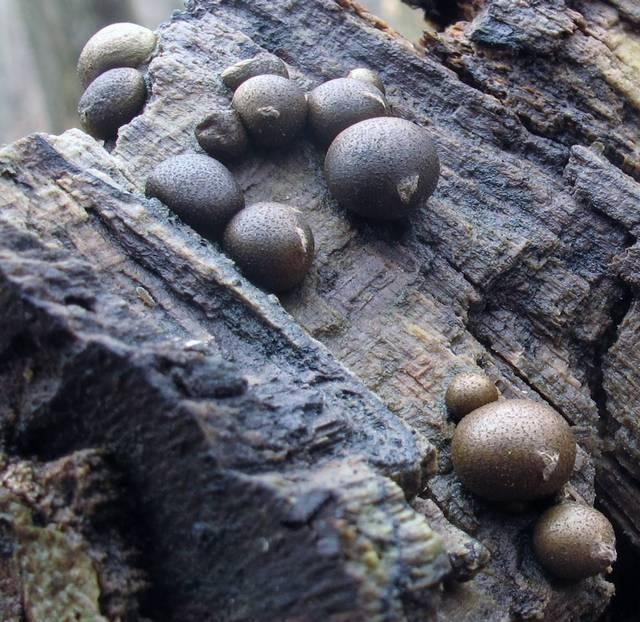Non-edible Mushroom: (449, 396, 577, 503), (323, 114, 440, 223), (221, 200, 315, 292), (143, 150, 243, 230), (531, 500, 617, 581), (230, 73, 308, 148), (307, 72, 388, 143), (75, 21, 158, 87), (76, 65, 147, 140), (193, 108, 248, 158), (219, 51, 289, 90), (443, 370, 498, 418)
